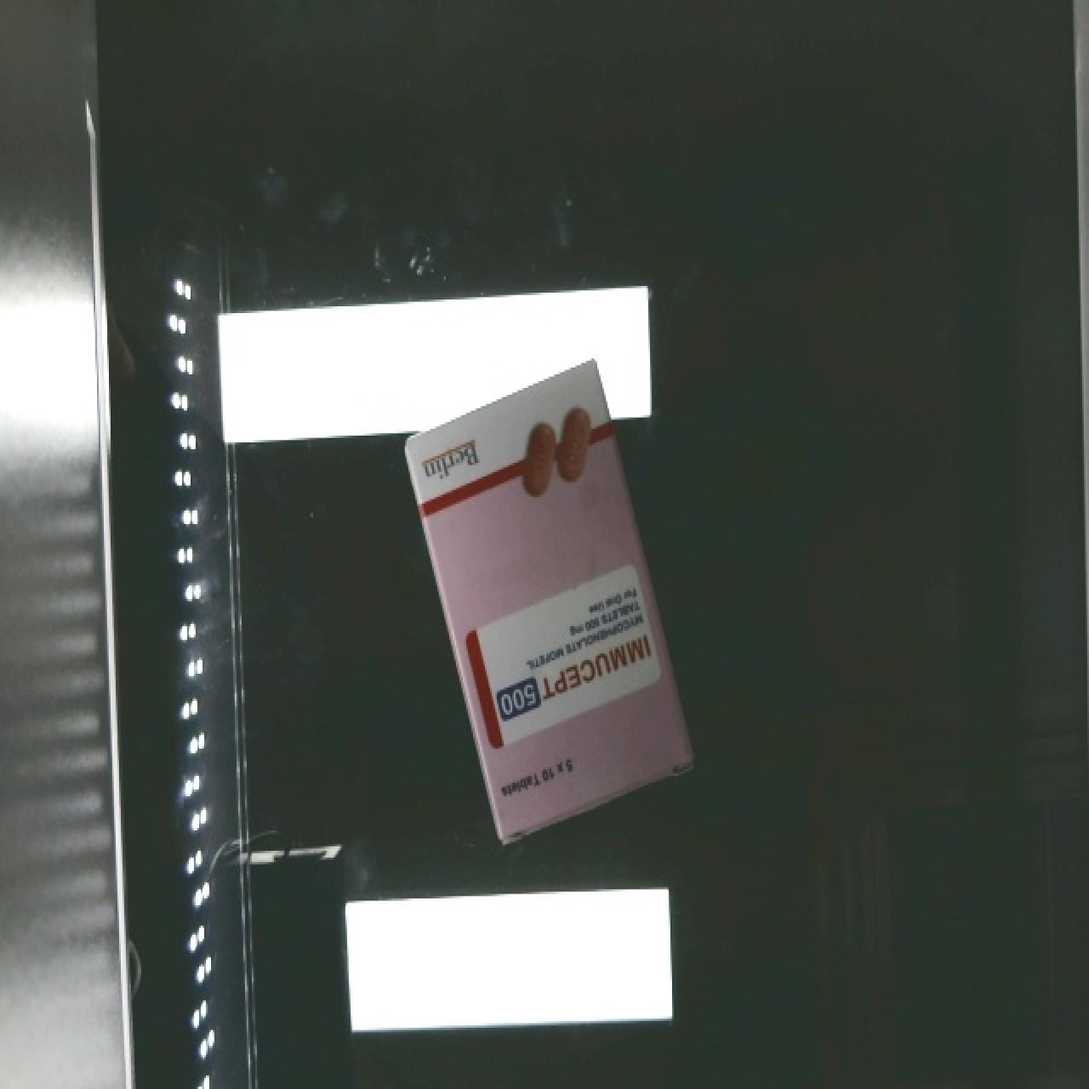medicine_label_obb: (474, 609, 670, 742)
